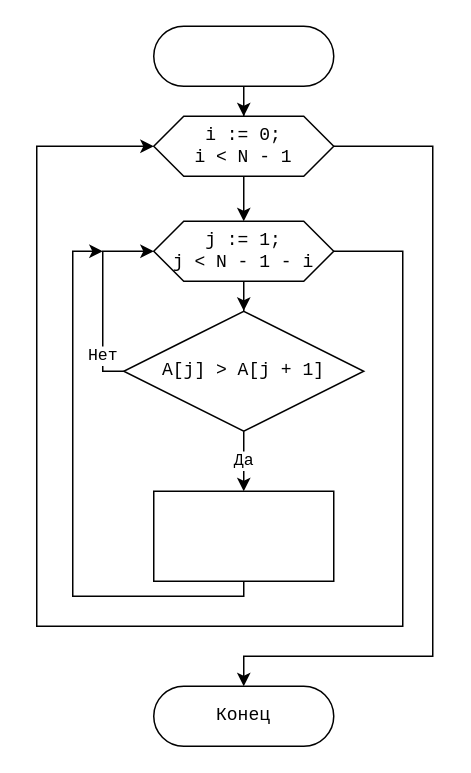
Some shapes in this 471 by 773 pixel diagram are drawn without their labels. The centre of each missing label's shape, as x and y in pixels:
tmp := A[j] A[] := A[j + 1] A[j + 1] := tmp: the point at 243,535
Начало: the point at 243,55
